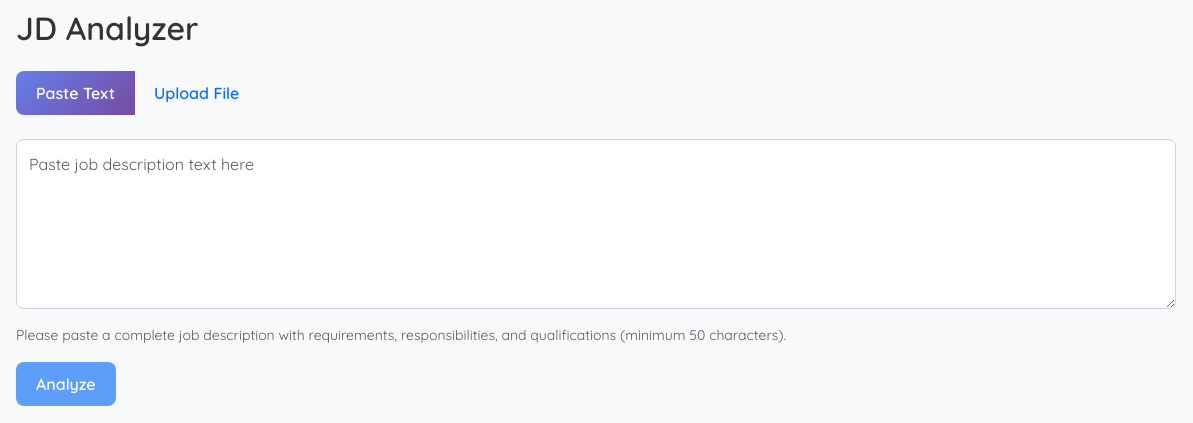
Home › disables analyze button when no input is provided
This screenshot has width=1193, height=423.
Expected: the button "Analyze" is disabled, [16,362,116,406]
// Add valid text and button should be enabled
Type "We are seeking a skilled Software Developer to join our dynamic team.      The candidate will be responsible for developing and maintaining web applications.          Requirements:     - Bachelor's de" into the text box with placeholder "Paste job description text here" at [596, 224], box [16,139,1176,309]
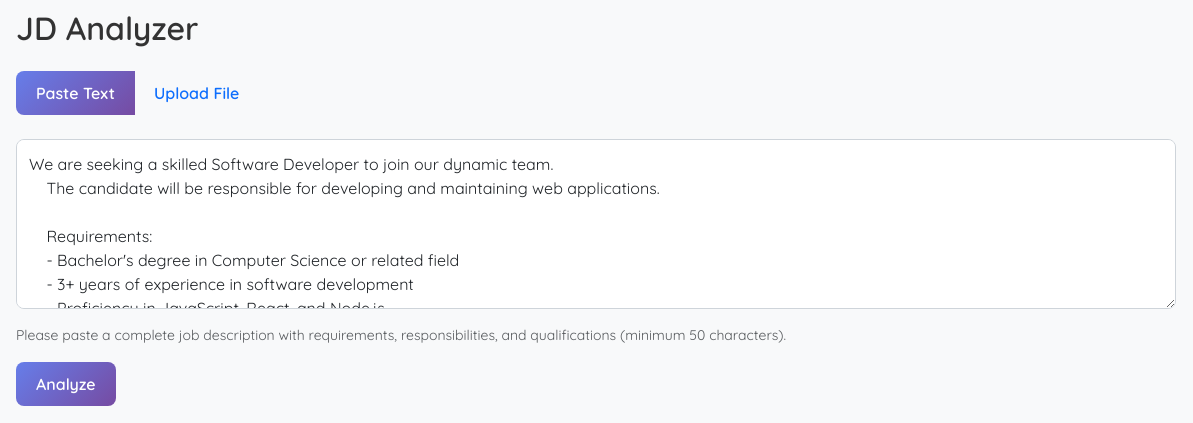
Expected: the button "Analyze" is enabled, [16,362,116,406]
